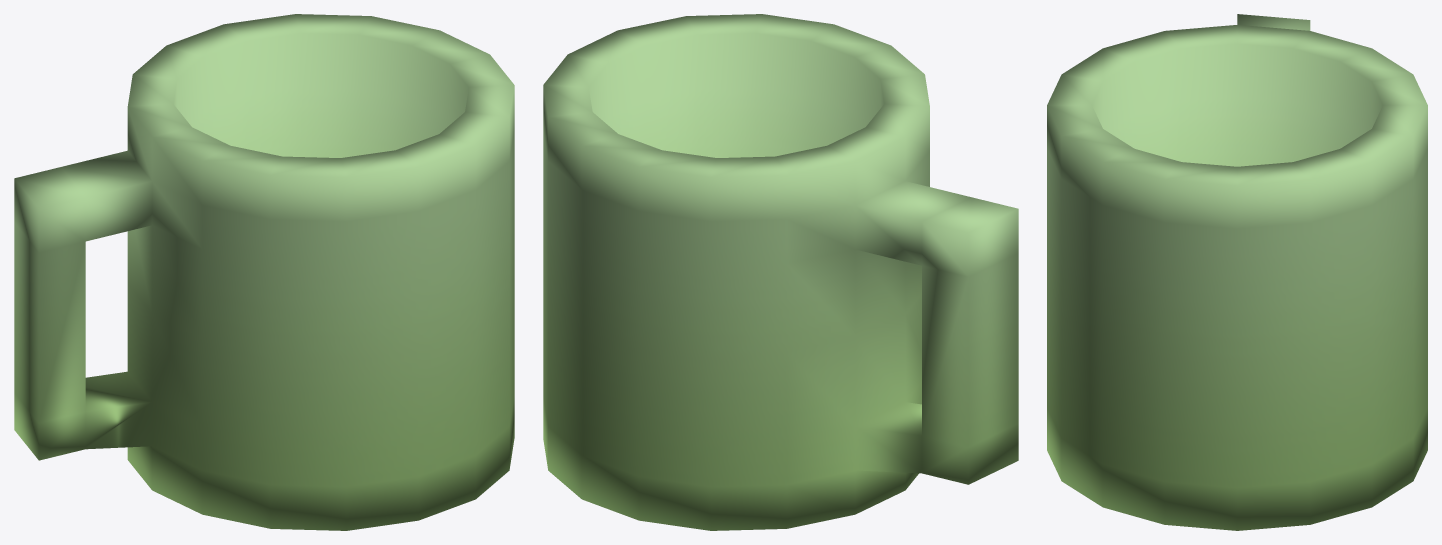
Rendered from Mug.fbx.
The picture shows the model from 3 angles, left to right: view 1: azimuth 30°, elevation 25°; view 2: azimuth 150°, elevation 25°; view 3: azimuth 270°, elevation 25°; orthographic projection. The views are drawn at different scales.
Visible parts, largest first — view 1: Mug; view 2: Mug; view 3: Mug.
Boxes of the visible parts, x1,y1,x2,y2 form: Mug: [14, 14, 514, 530]; Mug: [543, 14, 1018, 530]; Mug: [1047, 14, 1427, 530].
Size of the model in its own units: 0.3001 by 0.3001 by 0.4007.
